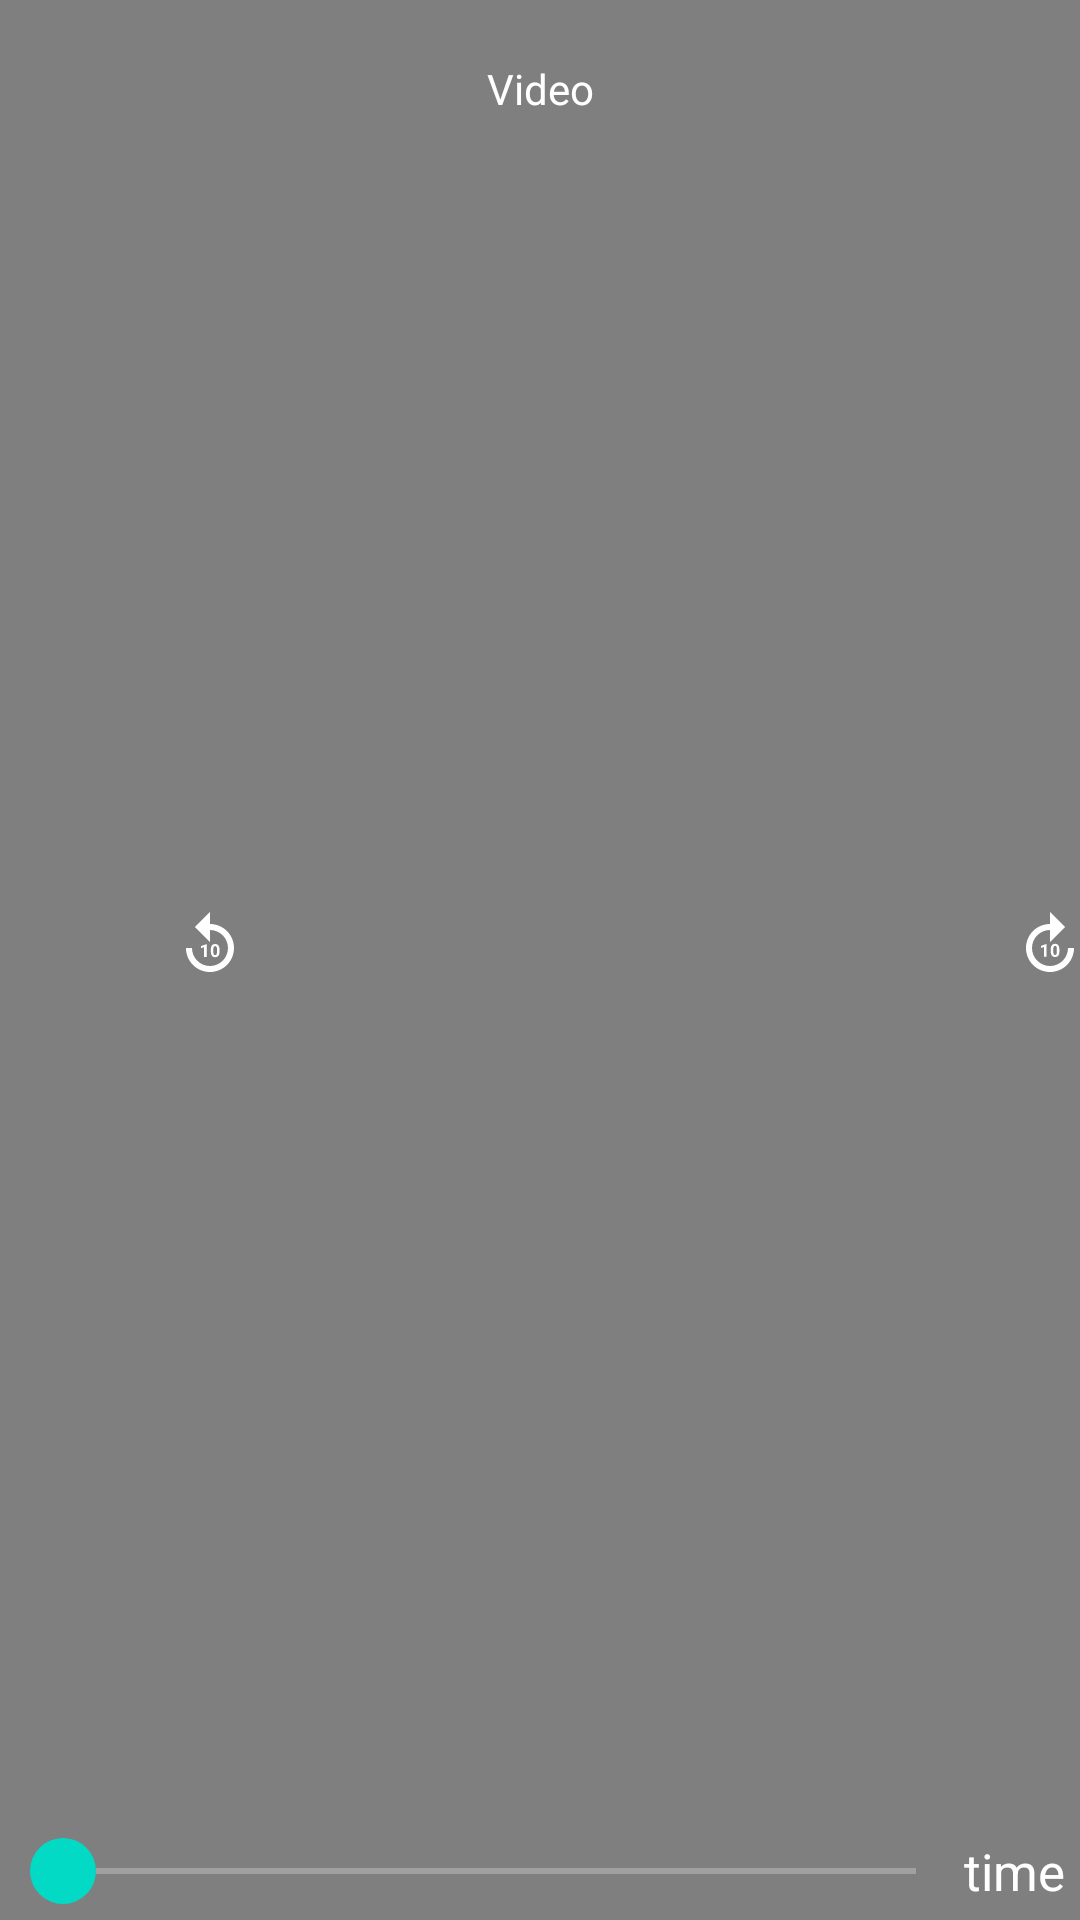

Screen size 1080 × 1920. Icon name, then its box in pixels as (x1, y1, x2, y2):
backward: (186, 912, 234, 972)
